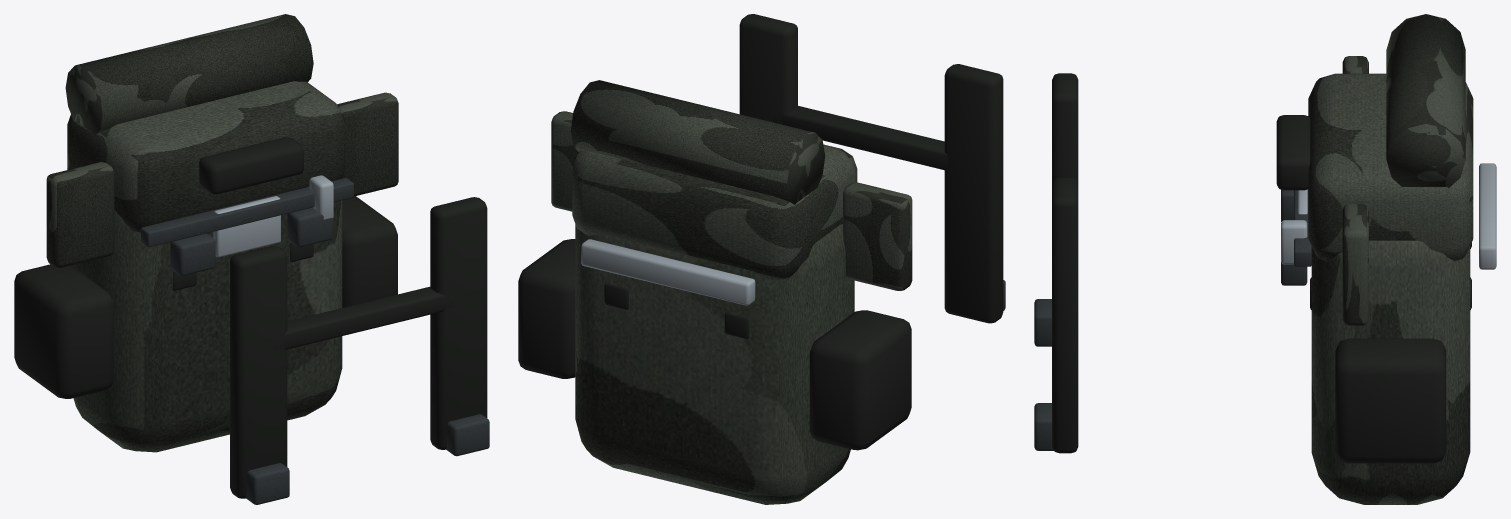
The model's file is gear_bag_small.glb.
3 views of the same model, side by side, from view 1: azimuth 30°, elevation 25°; view 2: azimuth 150°, elevation 25°; view 3: azimuth 270°, elevation 25° (orthographic). The views are drawn at different scales.
Visible parts, largest first — view 1: Gear; view 2: Gear; view 3: Gear.
Boxes of the visible parts, box(x1,y1,x2,y2) form: Gear: box(14, 14, 489, 504); Gear: box(518, 14, 1005, 504); Gear: box(1034, 14, 1496, 504).
Bounding box in the file's own units: 0.483 × 0.4923 × 0.525.
Materials: 5 (3 with a texture image).
